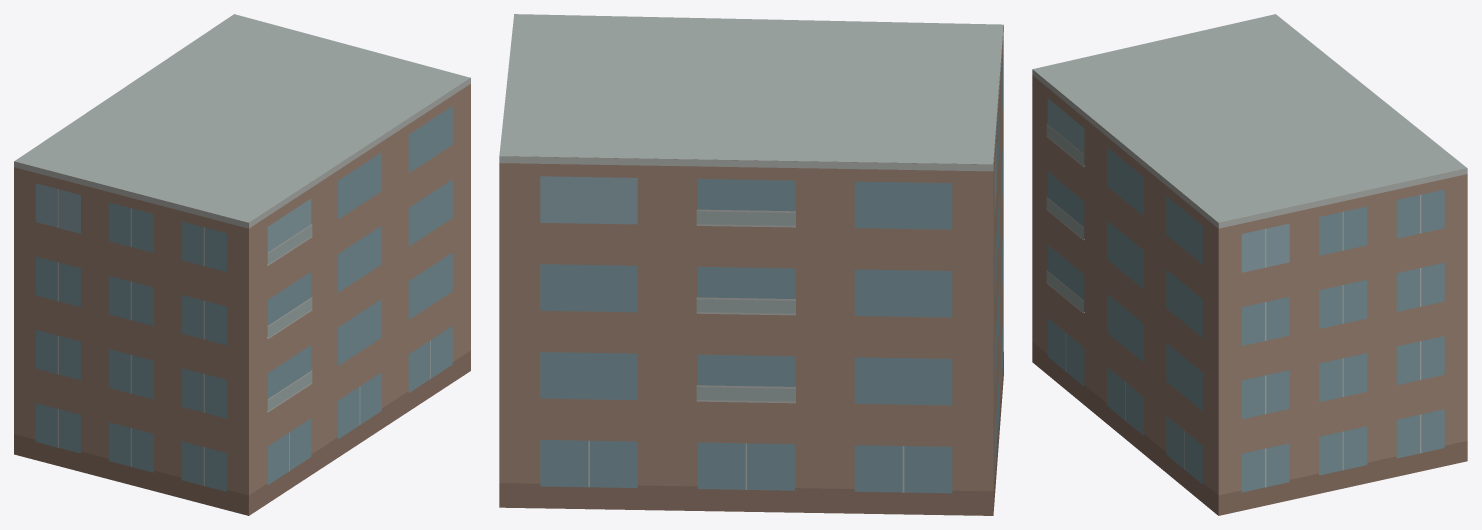
File: survey-upis-32696148.glb
3 renders of one model, left to right at view 1: azimuth 30°, elevation 25°; view 2: azimuth 150°, elevation 25°; view 3: azimuth 270°, elevation 25°, orthographic. The views are drawn at different scales.
Parts seen in each view (by area): view 1: survey-upis-32696148.tmp; view 2: survey-upis-32696148.tmp; view 3: survey-upis-32696148.tmp.
Part boxes in pixels (x1=…): survey-upis-32696148.tmp: x1=14, y1=14, x2=470, y2=515; survey-upis-32696148.tmp: x1=499, y1=14, x2=1003, y2=515; survey-upis-32696148.tmp: x1=1032, y1=14, x2=1467, y2=515.
Bounding box in the file's own units: 18.66 × 12.2 × 16.43.
